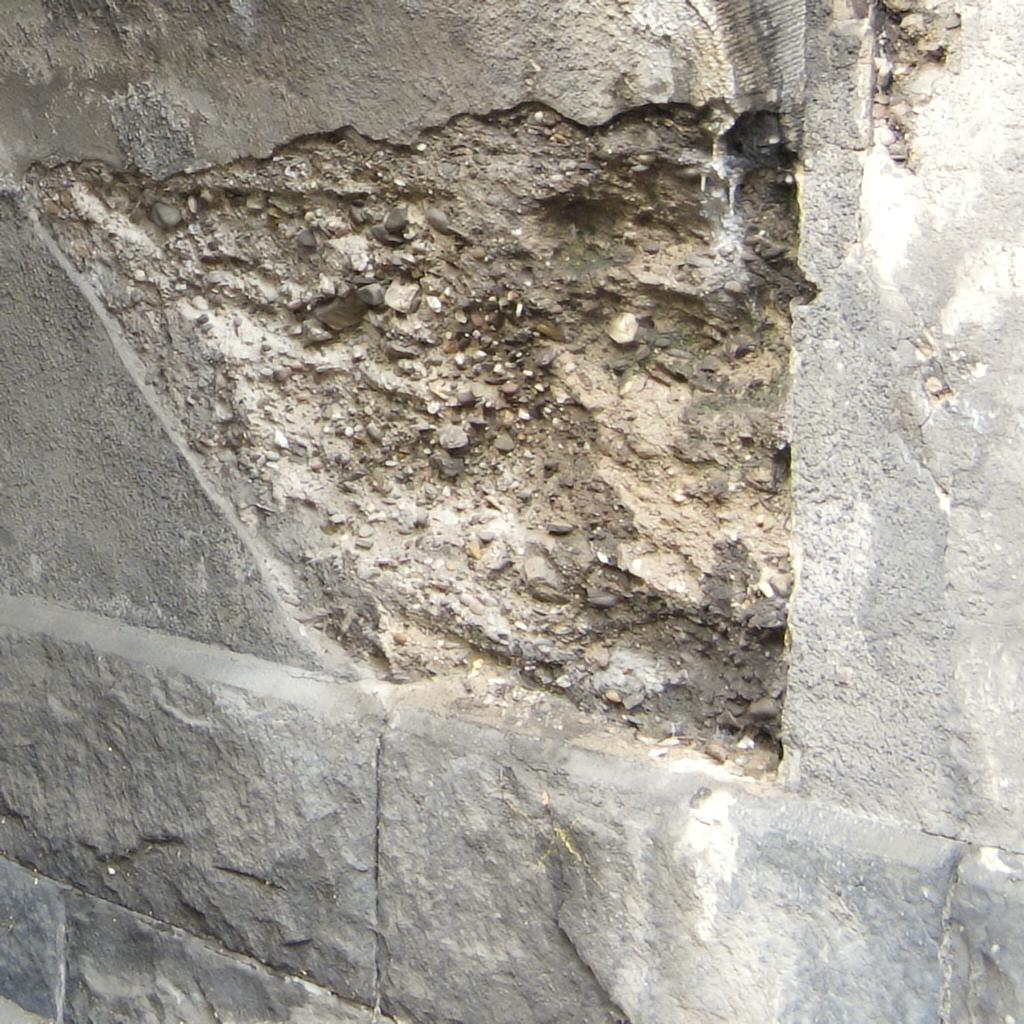spalling: (28, 106, 810, 771)
